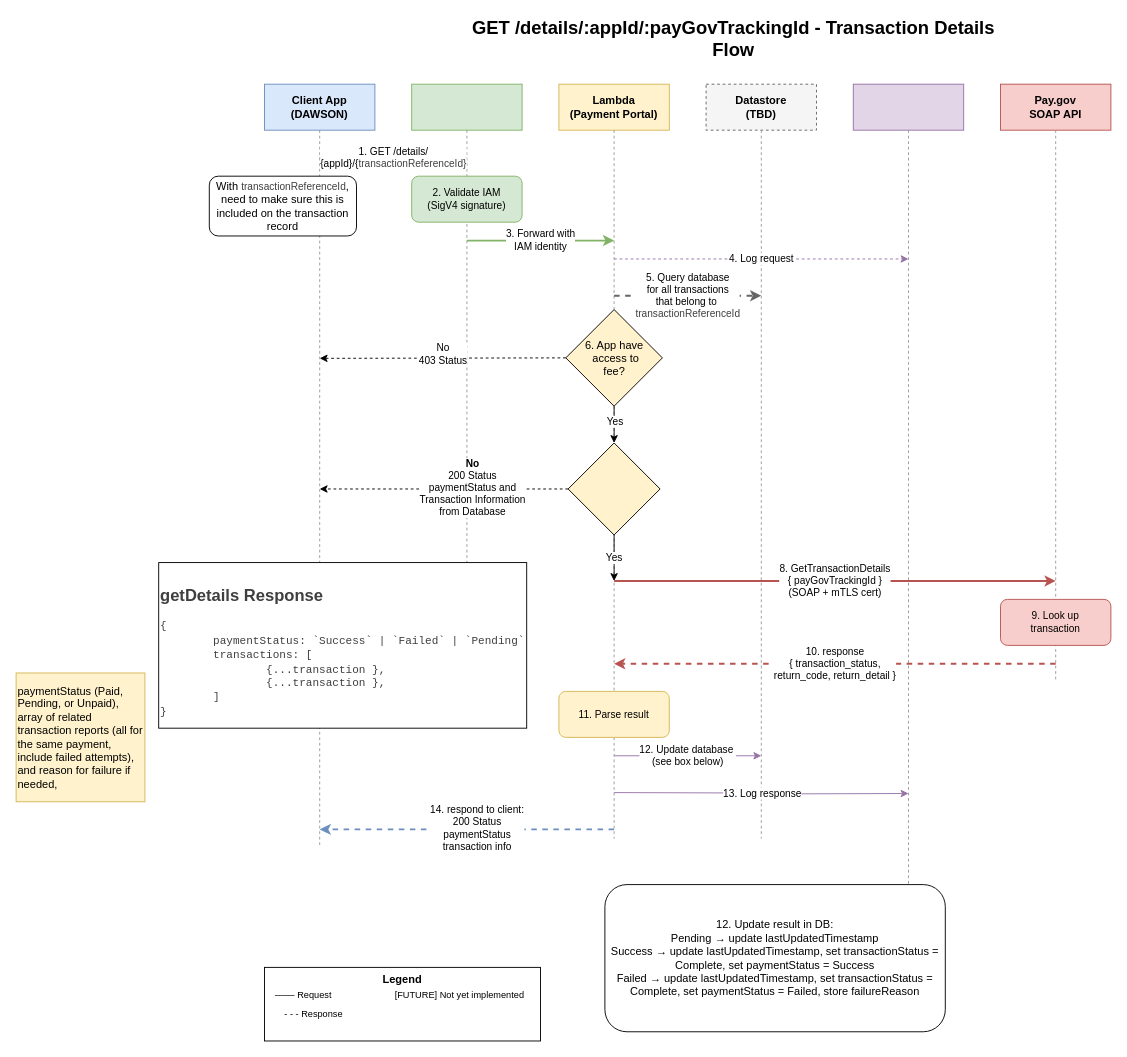
Image size: 1127x1057. Some labels were removed from this diagram. The shapes that lost their labels are listed below. From the top down, each one's centre as x and y in pixels, then its label:
At (466,106): "API Gateway".
At (908,106): "CloudWatch Logs".
At (613,488): "7. is there a pending transaction?".
